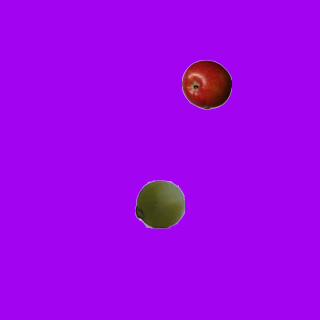Apple Braeburn: (181, 59, 231, 109)
Grape White 4: (134, 178, 184, 228)
